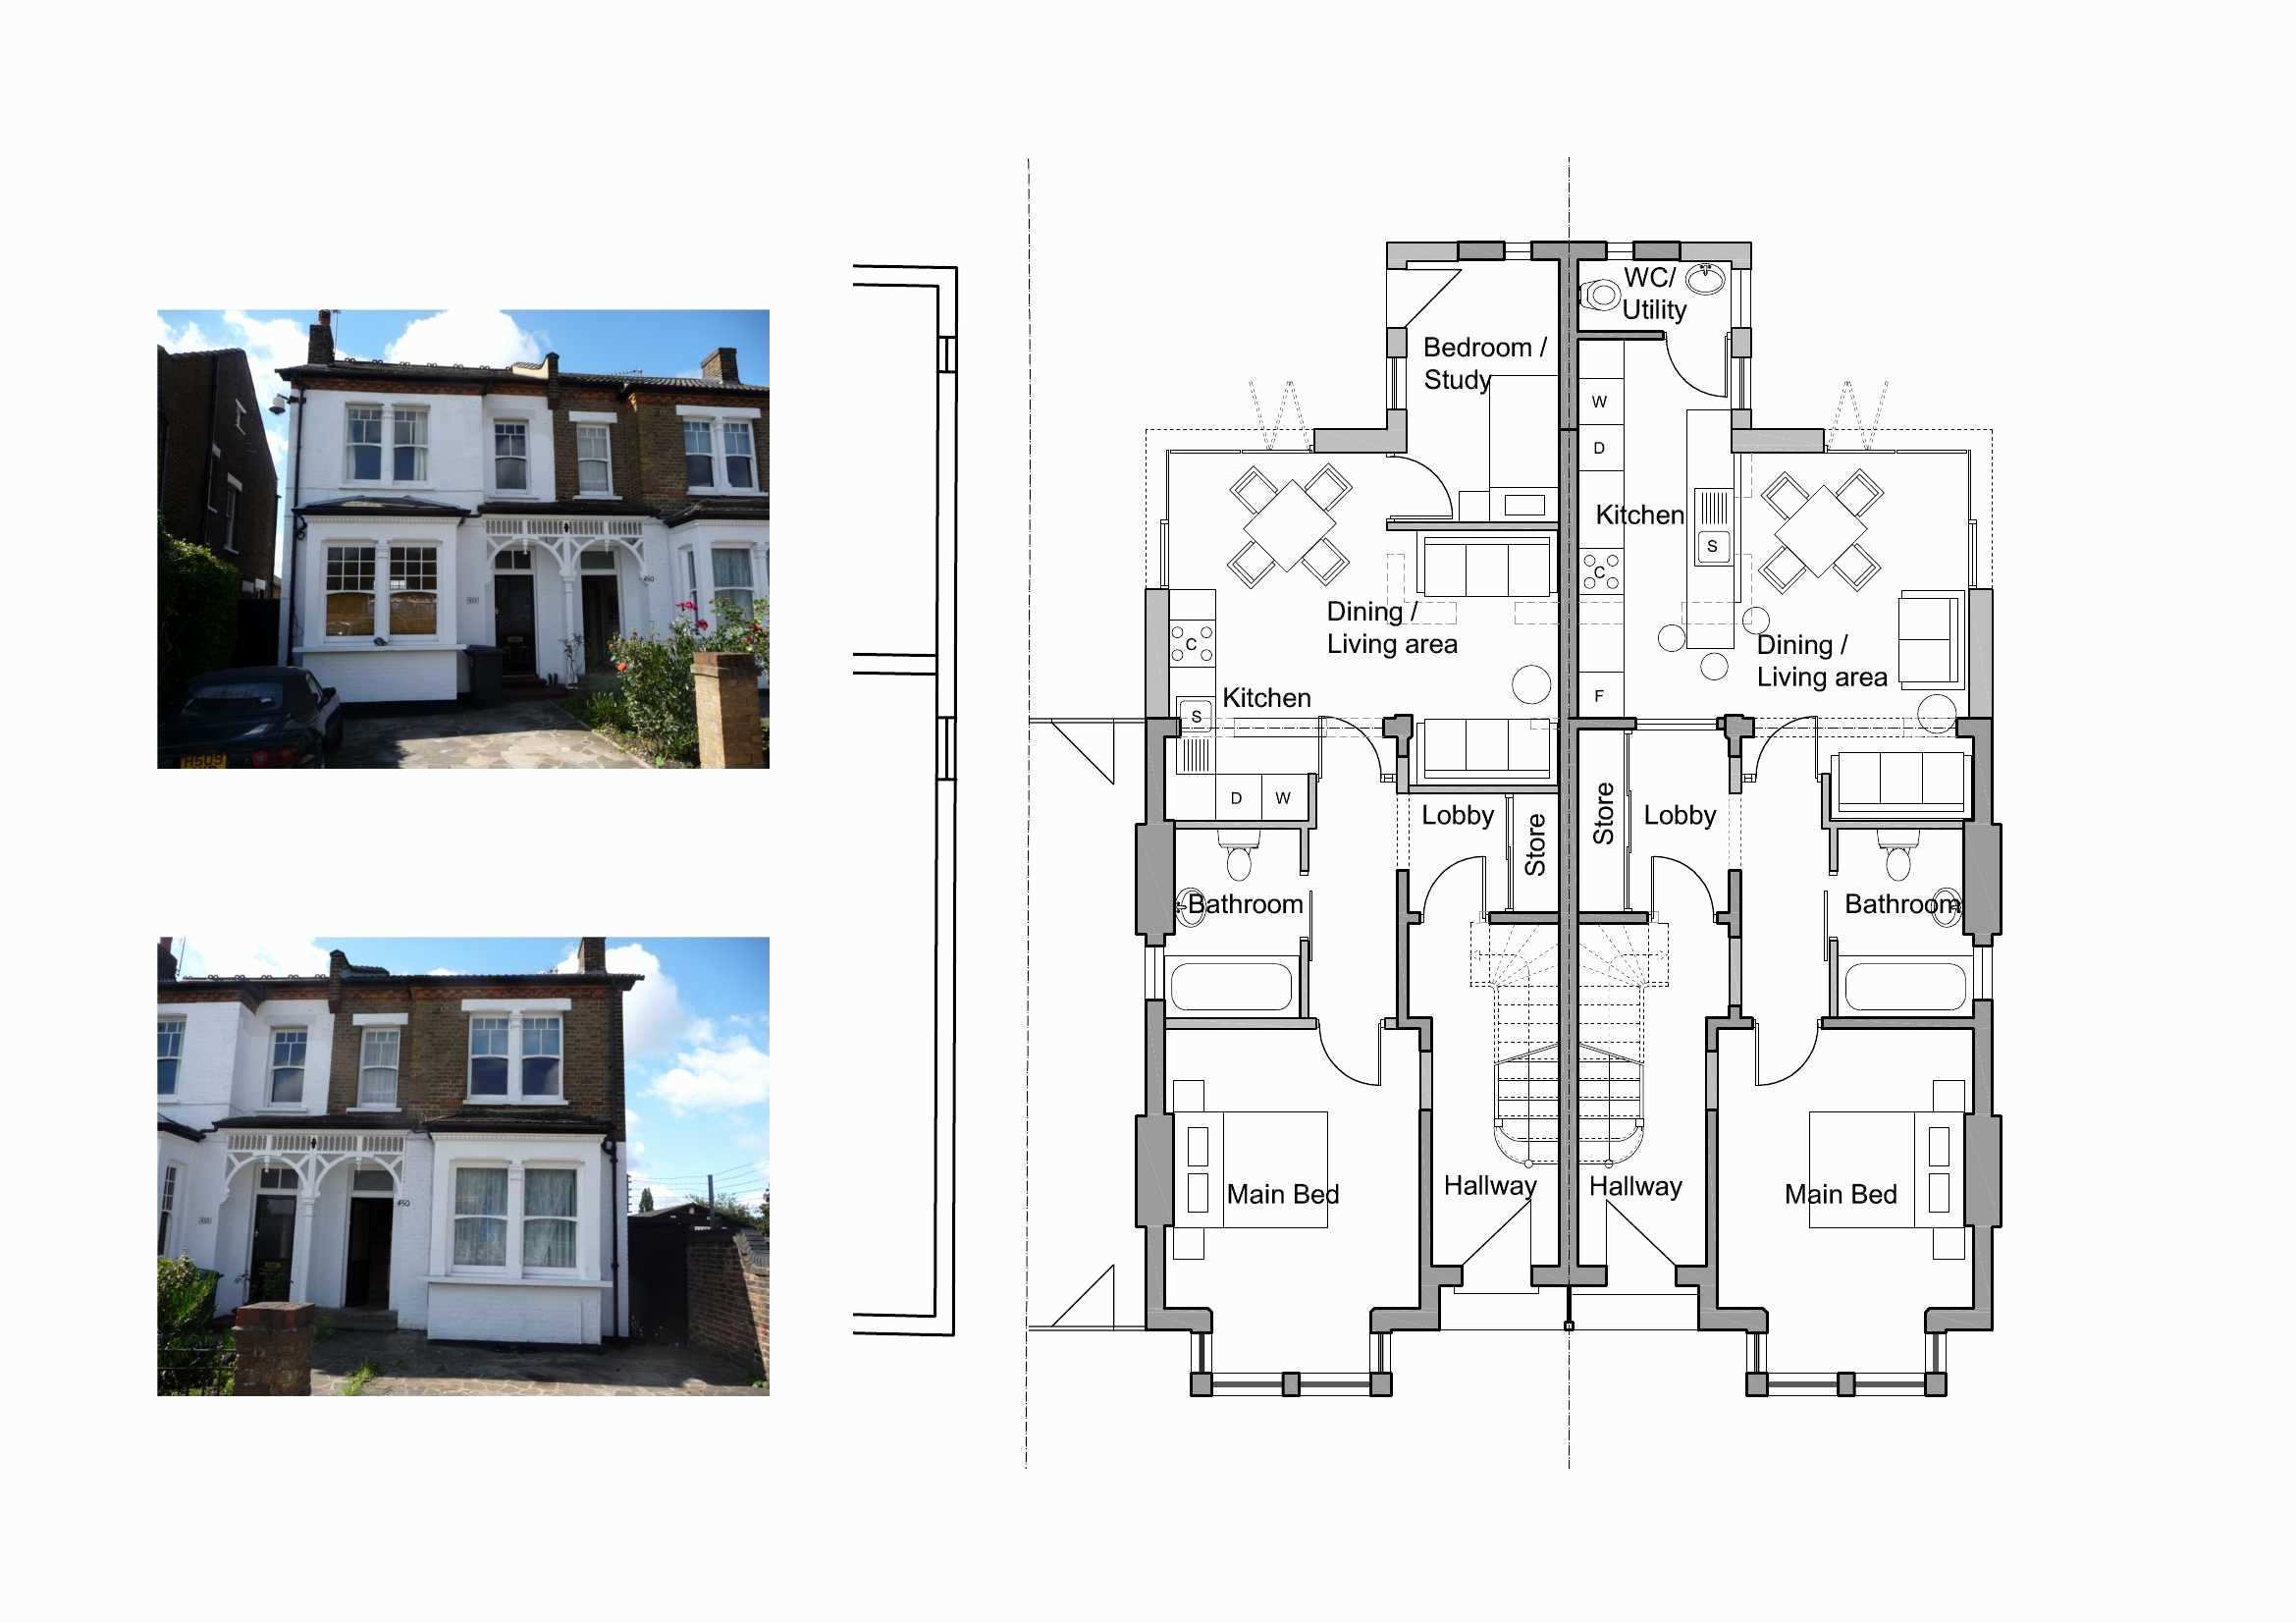door: (1754, 1031, 1822, 1094), (1755, 706, 1820, 769), (1317, 1031, 1385, 1091), (1668, 339, 1729, 400), (1399, 453, 1455, 520), (1420, 850, 1489, 905), (1318, 713, 1381, 769), (1647, 852, 1715, 903)
